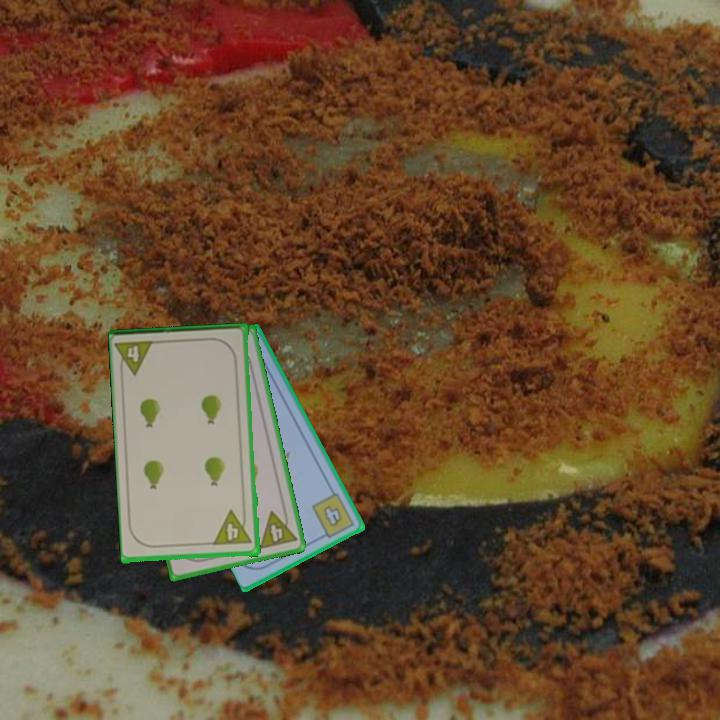4b: (308, 489, 357, 542)
4p: (256, 505, 300, 552), (211, 507, 255, 549), (114, 337, 158, 379)
